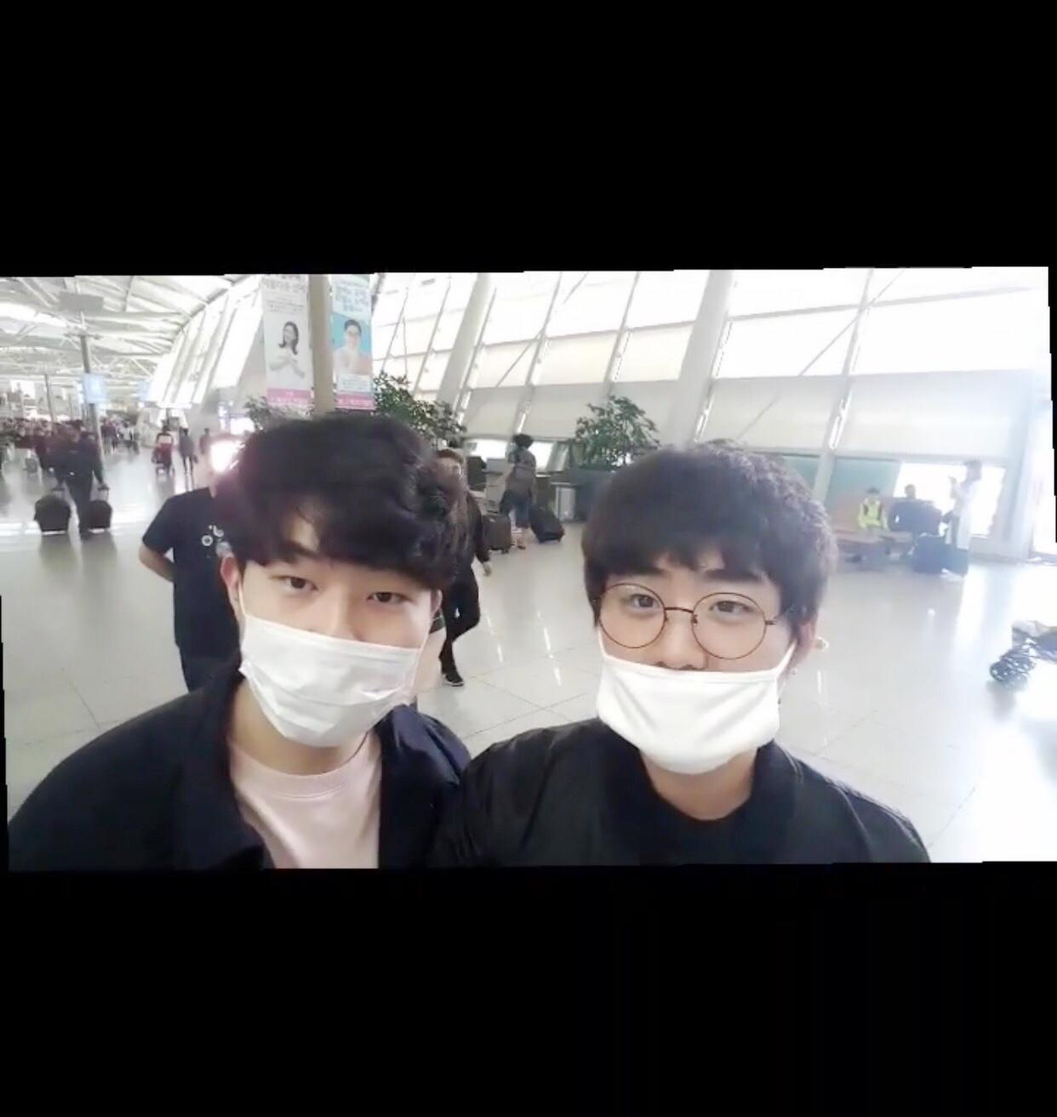WRONG: (219, 533, 441, 755), (589, 556, 797, 773)
